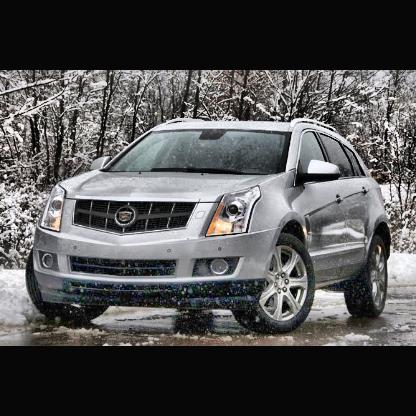Cadillac SRX SUV 2012: (26, 116, 394, 339)
